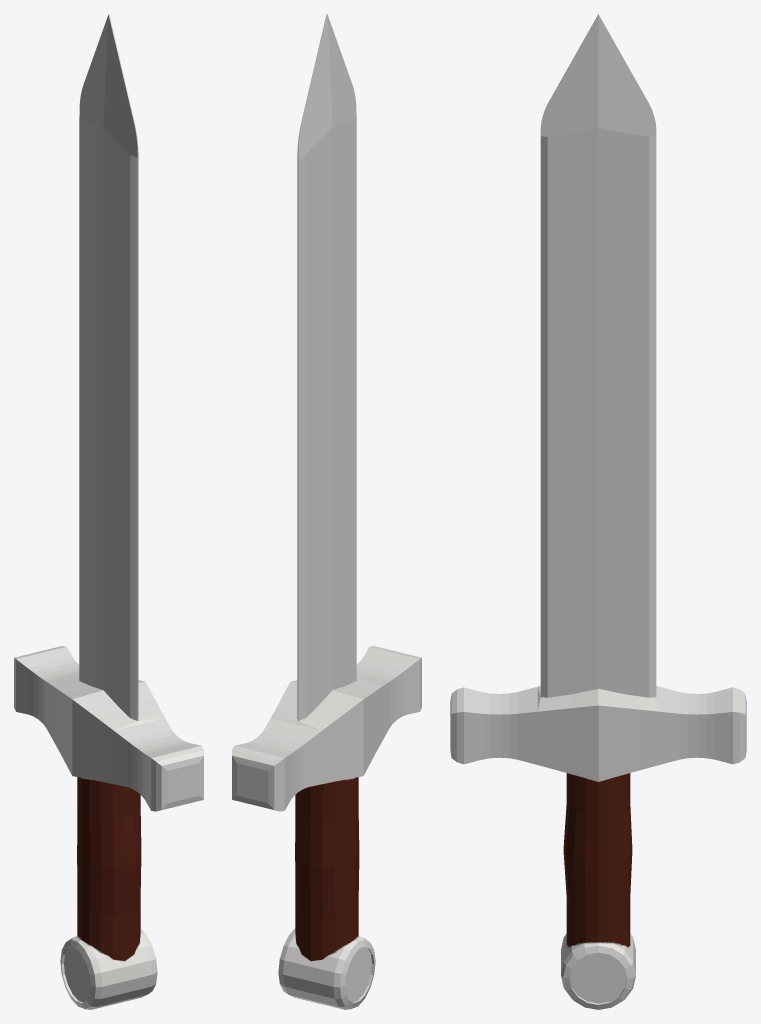
The model's file is sword.fbx.
3 views of the same model, side by side, from view 1: azimuth 30°, elevation 25°; view 2: azimuth 150°, elevation 25°; view 3: azimuth 270°, elevation 25° (orthographic).
Parts seen in each view (by area): view 1: Bake; view 2: Bake; view 3: Bake.
Boxes of the visible parts, <box> form: Bake: <box>14,14,203,1009</box>; Bake: <box>232,14,421,1009</box>; Bake: <box>450,14,746,1009</box>.
Size of the model in its own units: 8.33 by 107 by 29.28.
